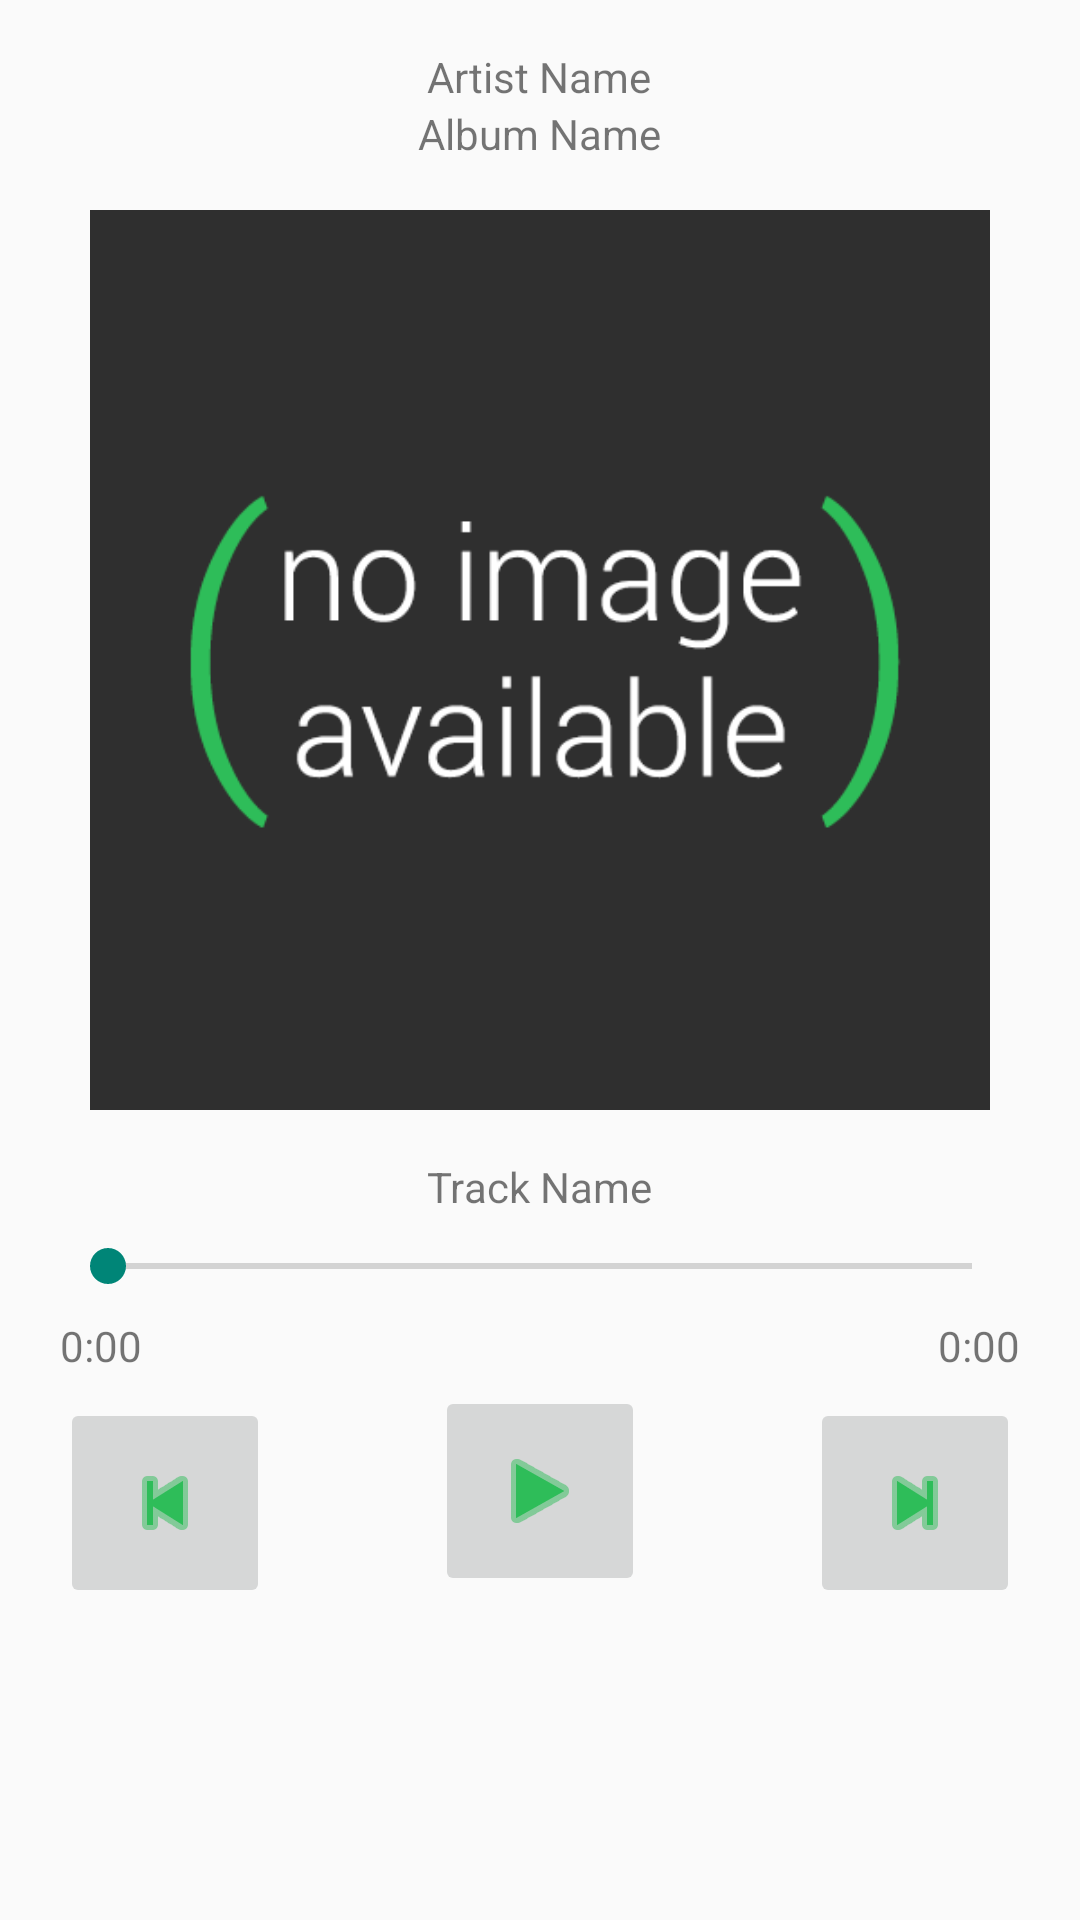

Locate icon controls on the screen. Image size 1080 x 1920, boxes as [left=x1, top=y1, right=x2, bottom=y2].
next: [left=822, top=1416, right=1008, bottom=1590]
play: [left=447, top=1404, right=633, bottom=1578]
previous: [left=72, top=1416, right=258, bottom=1590]
